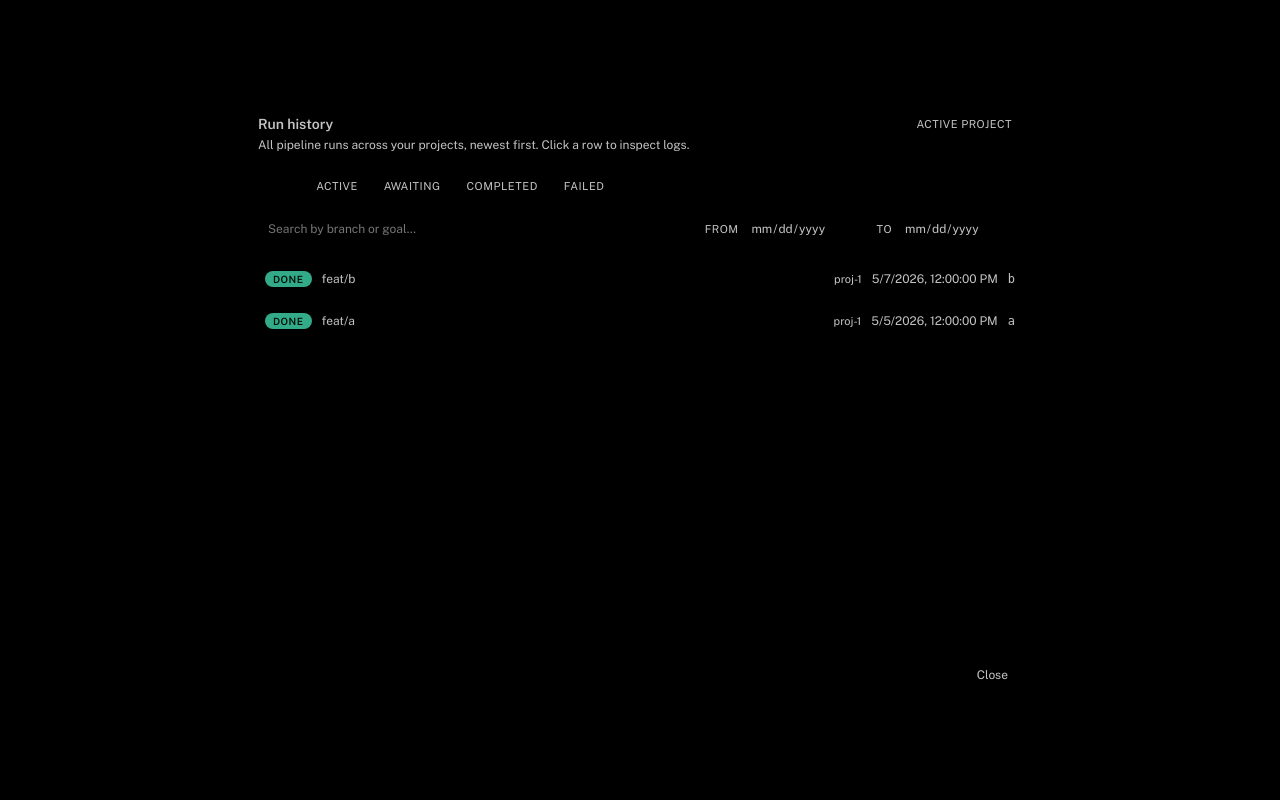
Scenario: RunHistoryPanel › Clear filters button resets search/date/chips and shows all runs again
The image size is (1280, 800).
# Force an empty result via a no-match search.
Type "nonexistent-xyz" into the field with test id "run-history-search" at (477, 229), box [258, 216, 697, 242]
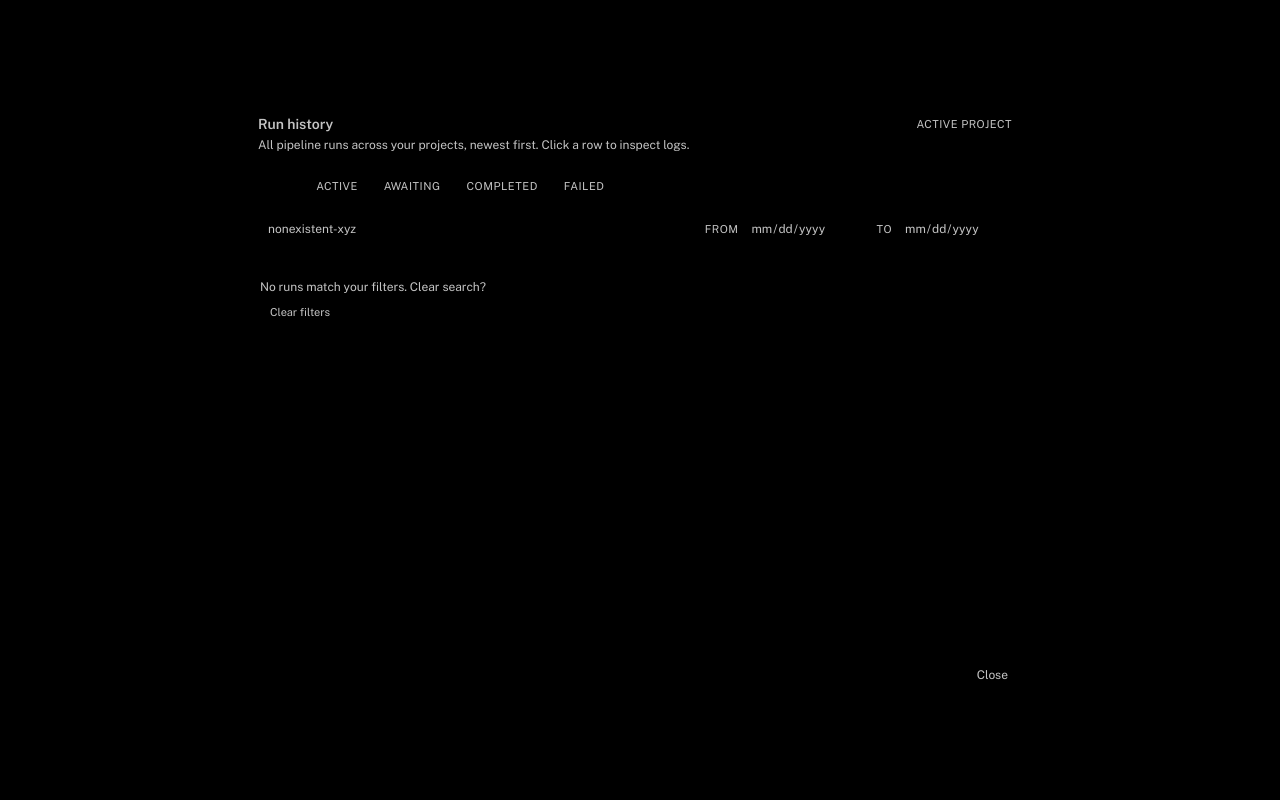
Type "2030-01-01" into the date field with test id "run-history-date-from" at (806, 229), box [742, 216, 868, 242]
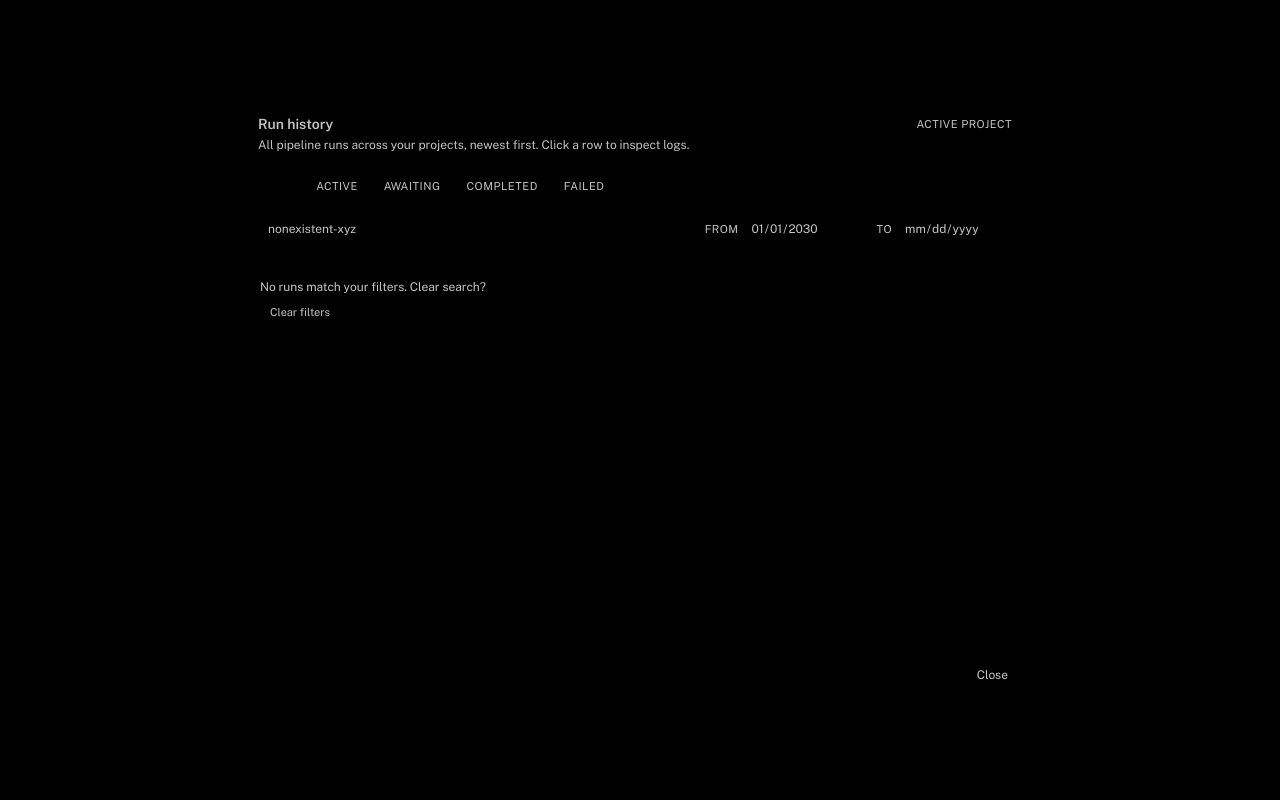
Check: the element with test id "run-history-empty-filtered" is shown, box [260, 280, 486, 322]
Click the button with test id "run-history-clear-filters" at (300, 312), box [260, 302, 340, 322]
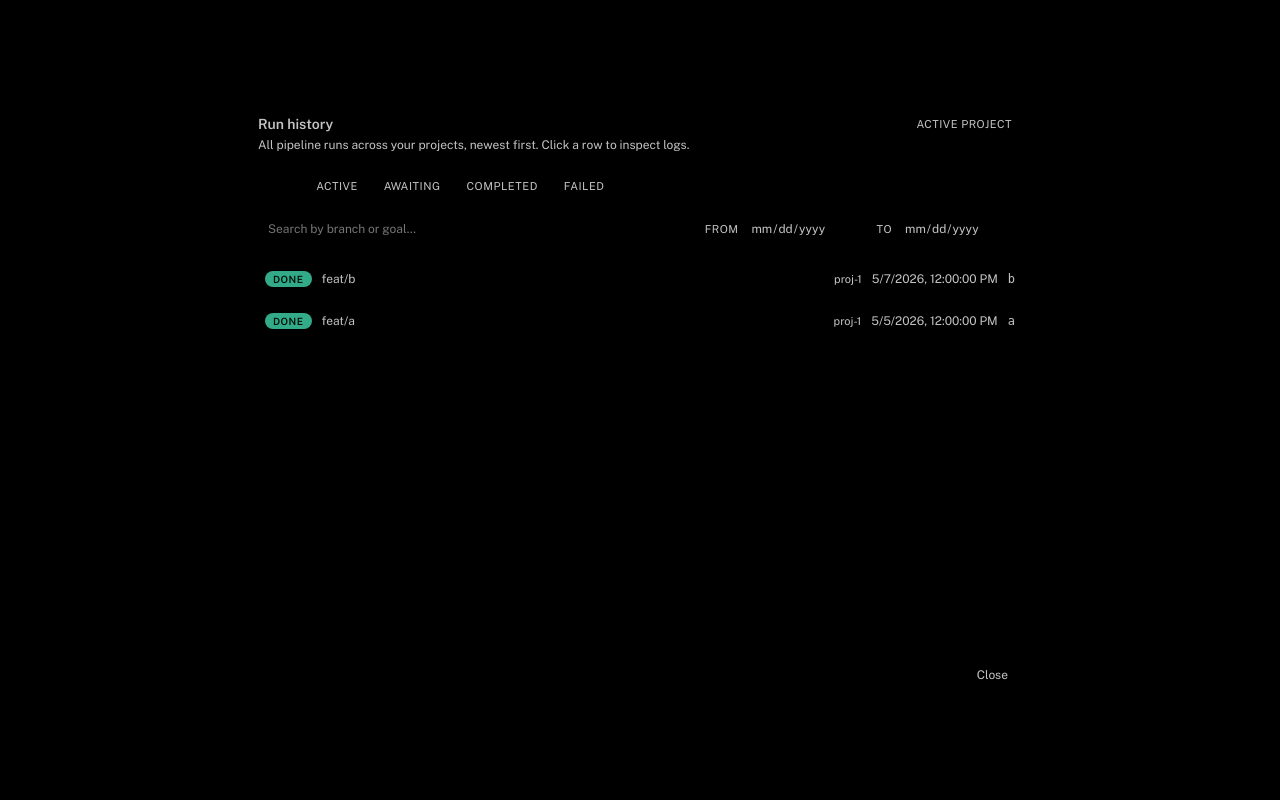
Check: the number of buttons with test id "run-history-row" is 2, box [252, 260, 1028, 298]; [252, 302, 1028, 340]
Check: the field with test id "run-history-search" is empty, box [258, 216, 697, 242]
Check: the date field with test id "run-history-date-from" is empty, box [742, 216, 868, 242]
